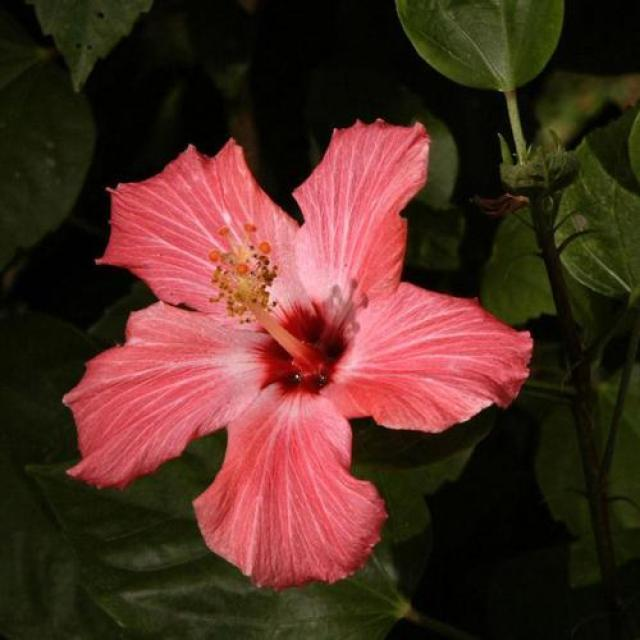hibiscus: (59, 70, 546, 605)
